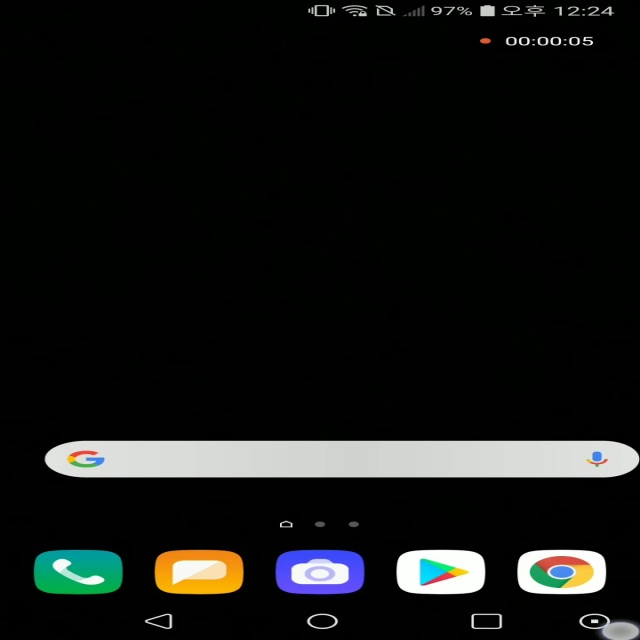Cursor: (595, 620, 640, 640)
